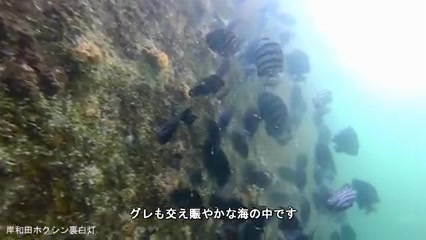ishidai: (253, 40, 285, 79)
